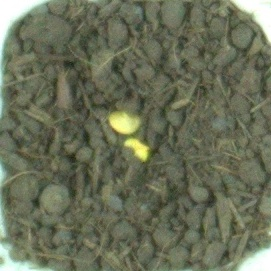chilli seed: (107, 107, 145, 135), (121, 136, 152, 162)
